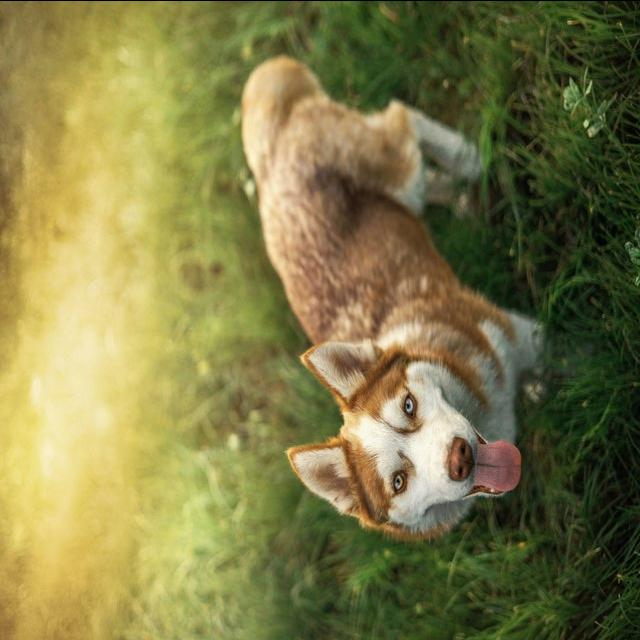husky: (238, 52, 554, 540)
